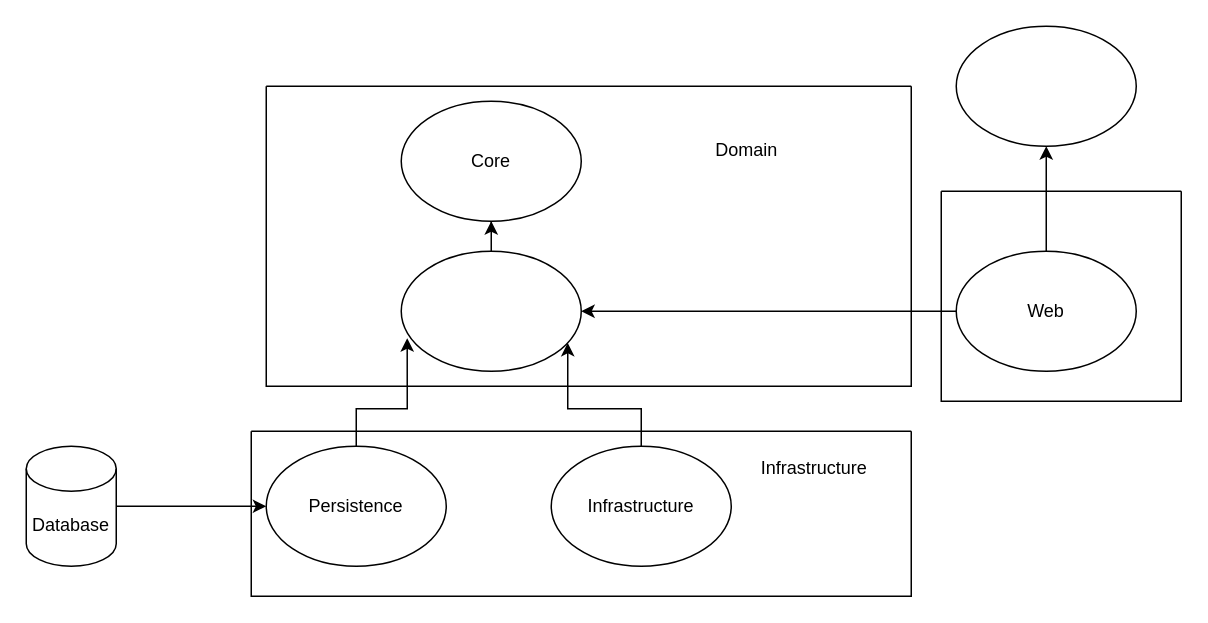
The diagram is 1208 pixels wide and 623 high, and some of its shapes have lost their labels. The shapes that lost their labels are listed below. From the top down, each one's centre as x and y in pixels, then its label:
At (1045,85): "client".
At (490,310): "Application".
At (1060,295): "Presentation".
